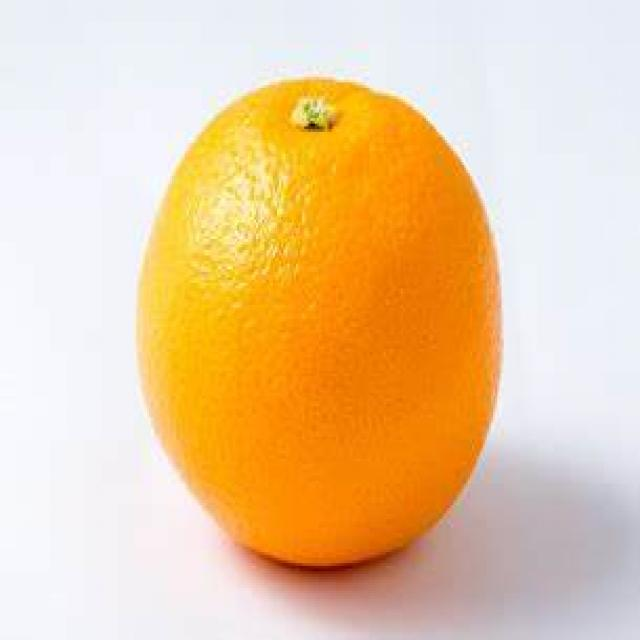Orange: (131, 74, 507, 573)
